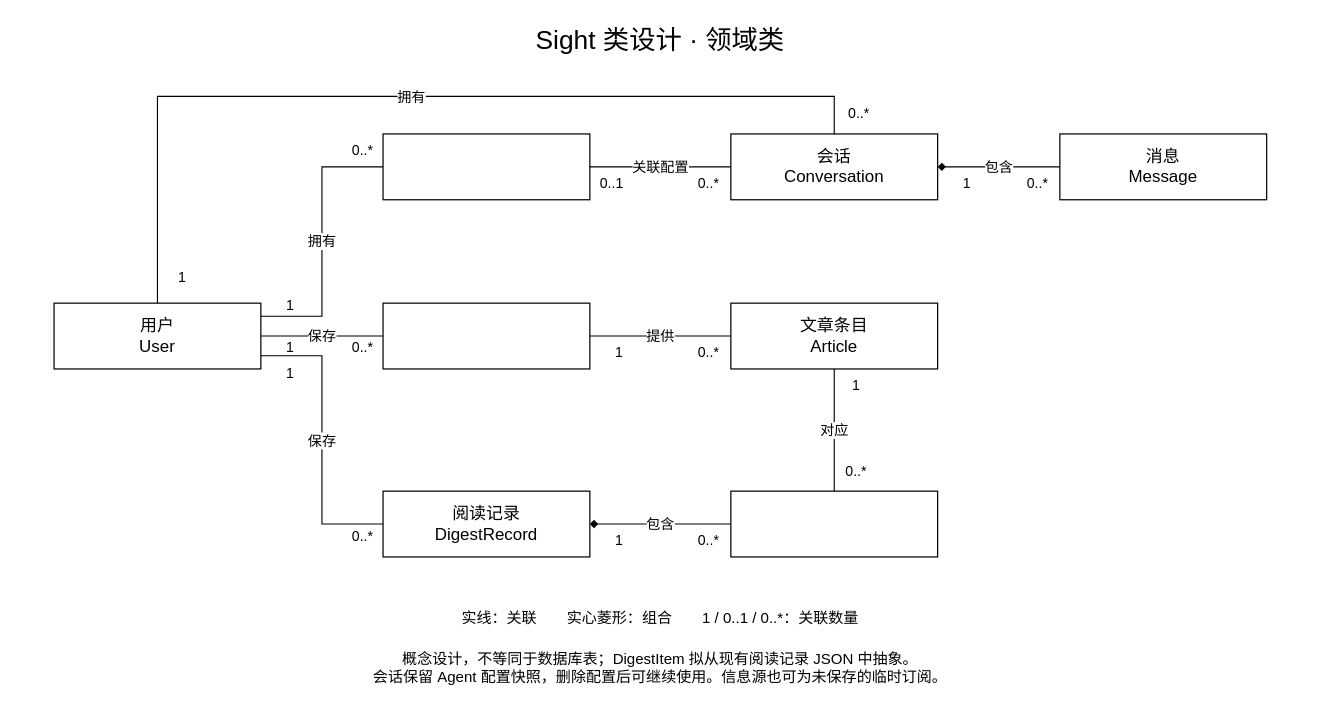
This 1320x709 diagram has some shape labels left out. Each missing label, with the centre of its shape:
Agent 配置 AgentProfile: point (486, 166)
RSS 信息源 RssSource: point (486, 335)
清单条目 DigestItem: point (834, 523)
